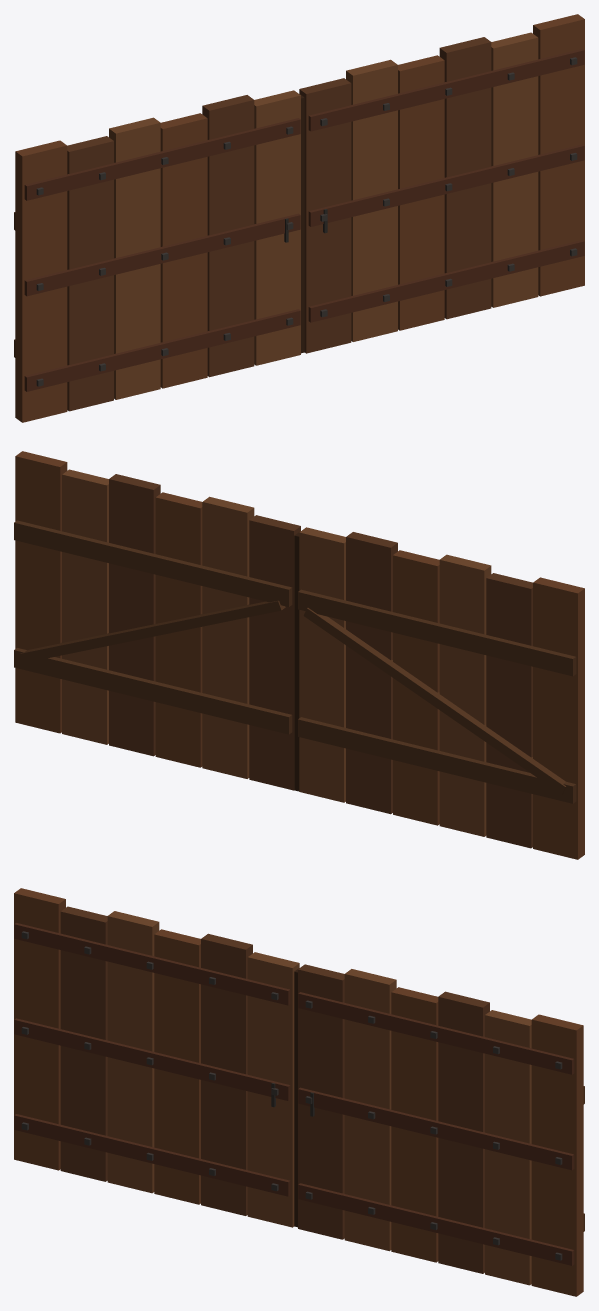
3 renders of one model, top to bottom at view 1: azimuth 30°, elevation 25°; view 2: azimuth 150°, elevation 25°; view 3: azimuth 330°, elevation 25°, orthographic.
Visible parts, largest first — view 1: baked (×2); view 2: baked; view 3: baked (×2).
Part boxes in pixels (left/top/right/bottom): baked (×2): left=14, top=14, right=584, bottom=422; baked: left=14, top=451, right=584, bottom=859; baked (×2): left=14, top=888, right=584, bottom=1296.
Bounding box in the file's own units: 10.17 × 4.6 × 0.475.
